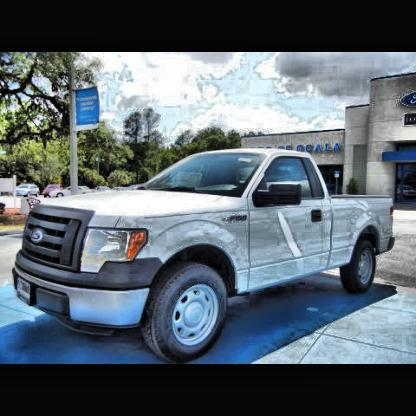Ford F-150 Regular Cab 2012: (14, 150, 397, 364)
